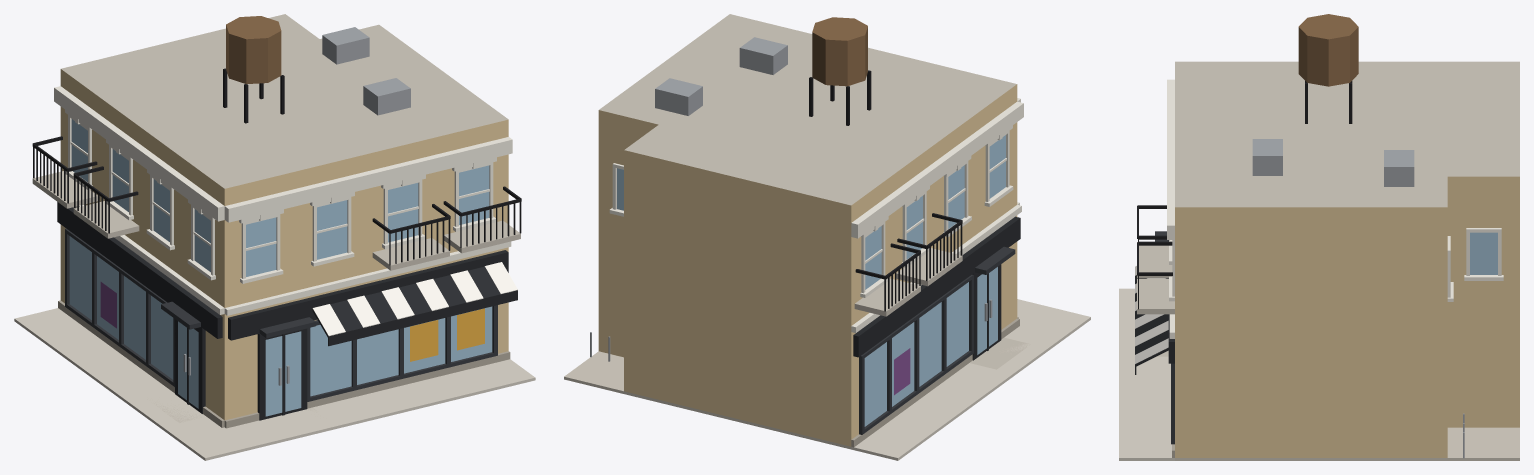
File: Blok_kose_2k_1_Hafif.fbx
3 views of the same model, side by side, from view 1: azimuth 30°, elevation 25°; view 2: azimuth 150°, elevation 25°; view 3: azimuth 270°, elevation 25° (orthographic). The views are drawn at different scales.
Parts seen in each view (by area): view 1: Blok_kose_2k_1_Hafif; view 2: Blok_kose_2k_1_Hafif; view 3: Blok_kose_2k_1_Hafif.
Boxes of the visible parts, x1=… form: Blok_kose_2k_1_Hafif: x1=14, y1=14, x2=535, y2=460; Blok_kose_2k_1_Hafif: x1=564, y1=14, x2=1090, y2=460; Blok_kose_2k_1_Hafif: x1=1119, y1=14, x2=1519, y2=460.
Bounding box in the file's own units: 10.02 × 9.42 × 10.
